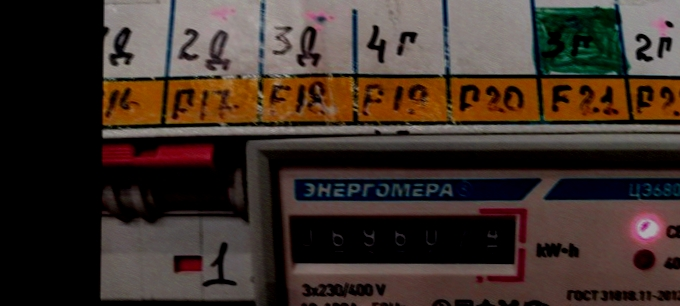0: (297, 225, 315, 250), (423, 223, 439, 249)
4: (485, 223, 499, 244)
5: (485, 245, 499, 264)
6: (328, 224, 346, 249), (392, 223, 408, 250)
7: (454, 225, 470, 251)
9: (360, 224, 377, 251)
screen: (283, 204, 530, 285)
